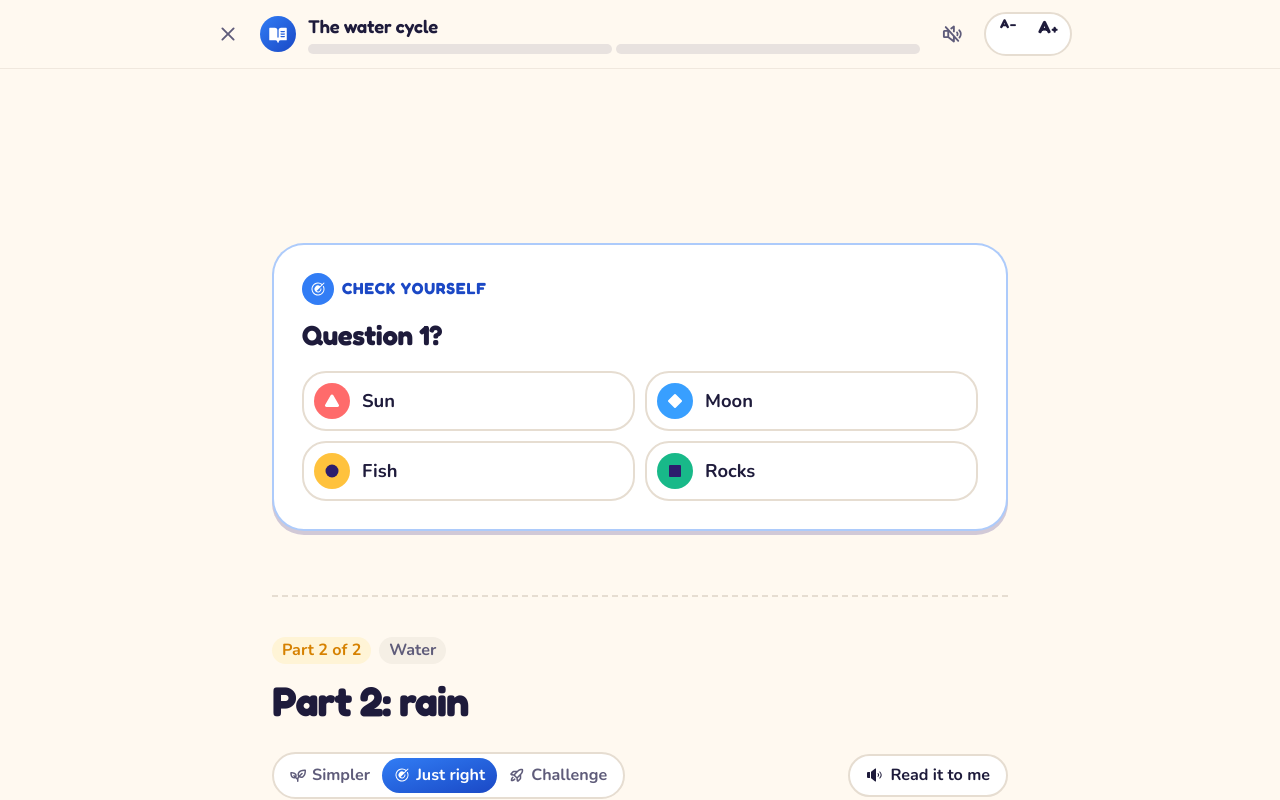
Test: GuidePlayer › checks each part where it is, explains, and points on
The width and height of the screenshot is (1280, 800).
(page scrolled)
Click the button "Moon" at point(675, 401), box x1=645 y1=371 x2=978 y2=431
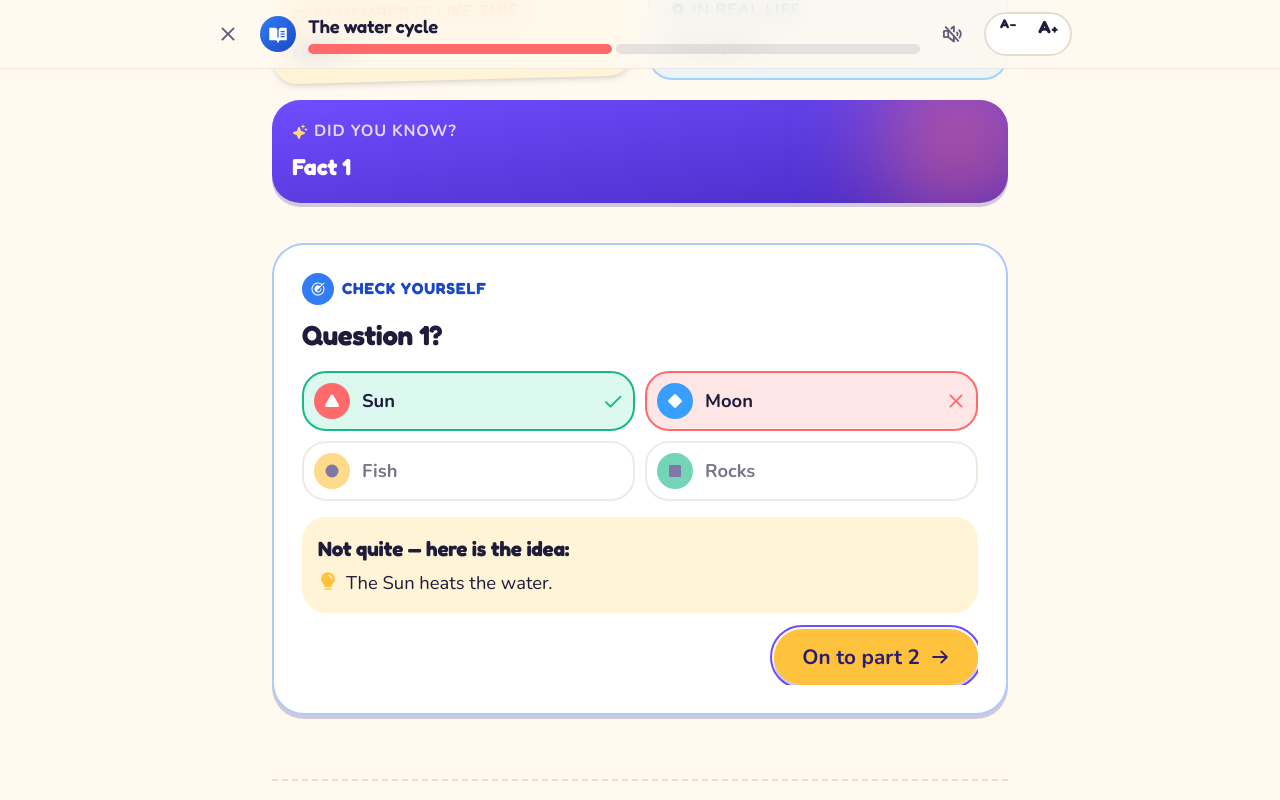
Result: the text "Not quite — here is the idea:" is shown at x1=318 y1=536 x2=569 y2=561
Result: the text "The Sun heats the water." is shown at x1=346 y1=569 x2=552 y2=597
